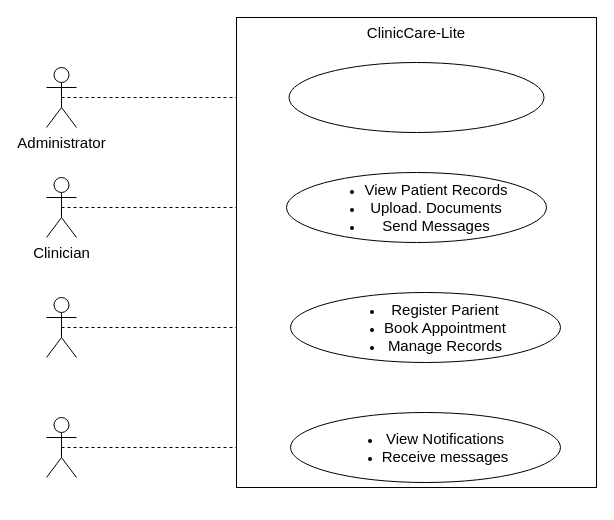
Image size: 614x520. Some labels were removed from this diagram. The centre of each missing label's shape, as x and y in pixels:
Login Manage Users View Dashboard: point (416, 97)
Patient: point (61, 447)
Receptionist: point (61, 327)
